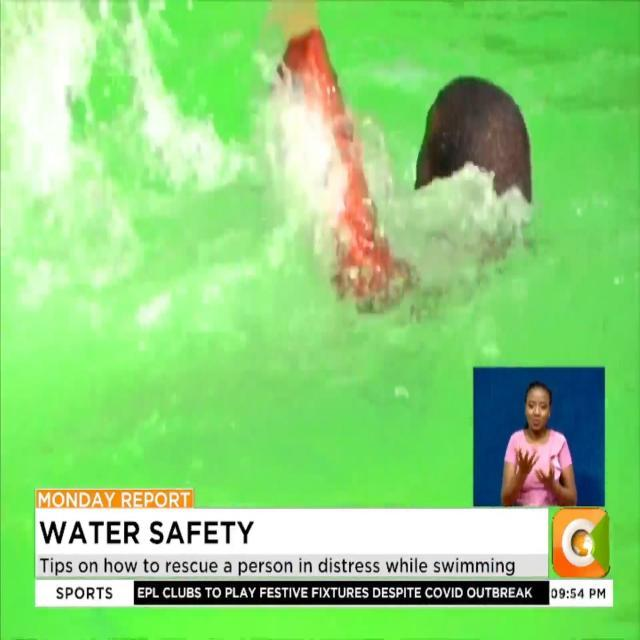drowning: (245, 0, 547, 298)
